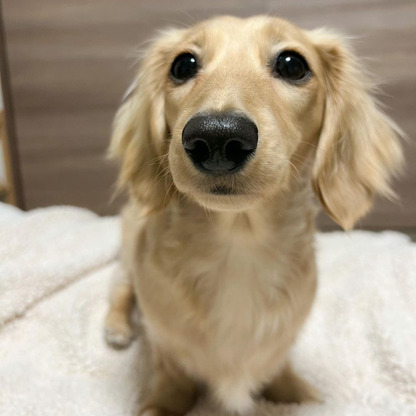dachshund: (88, 12, 390, 392)
